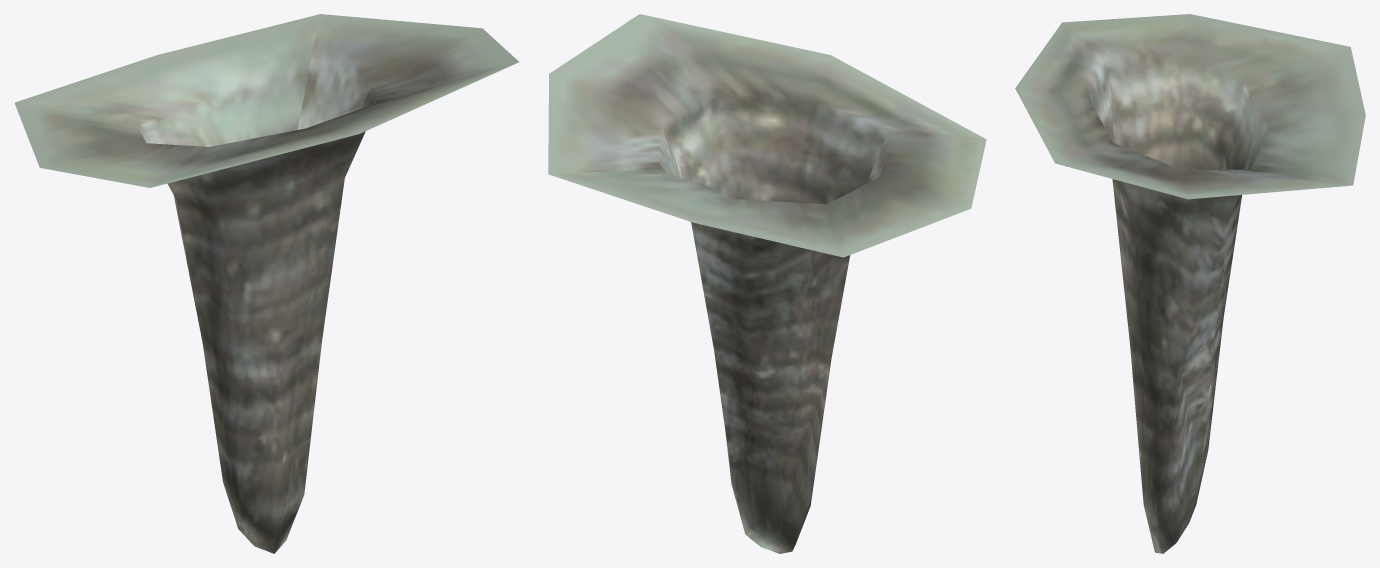
The model's file is TROLLHOLE02_PS-MAINSTALAG72.fbx.
3 renders of one model, left to right at view 1: azimuth 30°, elevation 25°; view 2: azimuth 150°, elevation 25°; view 3: azimuth 270°, elevation 25°, orthographic. The views are drawn at different scales.
Visible parts, largest first — view 1: TROLLHOLE02_PS-MAINSTALAG72; view 2: TROLLHOLE02_PS-MAINSTALAG72; view 3: TROLLHOLE02_PS-MAINSTALAG72.
Part boxes in pixels (box(x1,y1,x2,y2)): TROLLHOLE02_PS-MAINSTALAG72: box(14, 14, 518, 553); TROLLHOLE02_PS-MAINSTALAG72: box(548, 14, 986, 553); TROLLHOLE02_PS-MAINSTALAG72: box(1015, 14, 1365, 553).
Bounding box in the file's own units: 23971 × 24891 × 16287.
Materials: 1 (1 with a texture image).
